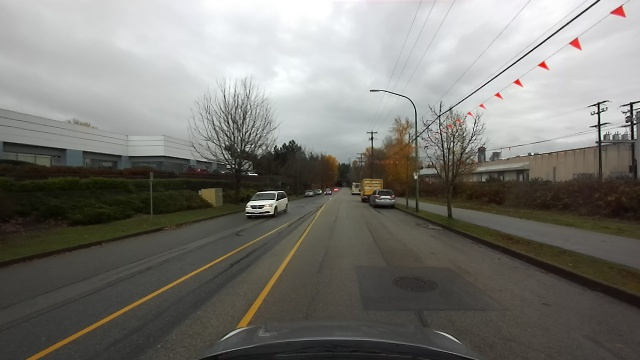car: (245, 189, 289, 220), (366, 187, 398, 210), (358, 179, 384, 202), (349, 182, 358, 196), (322, 187, 333, 197), (304, 190, 315, 197)
